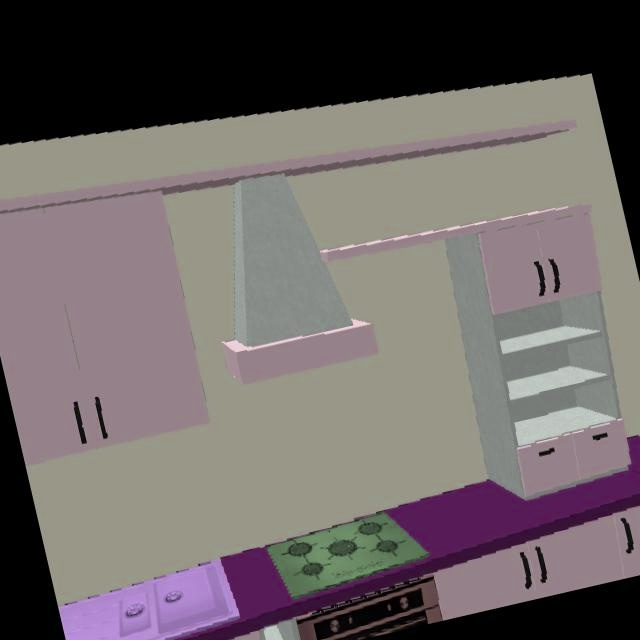cabinet: (0, 190, 211, 467), (443, 205, 630, 501), (431, 506, 640, 620)
countertop: (170, 435, 640, 640)
oven: (266, 578, 443, 640)
sink: (59, 560, 258, 640)
stove: (262, 512, 432, 601)
